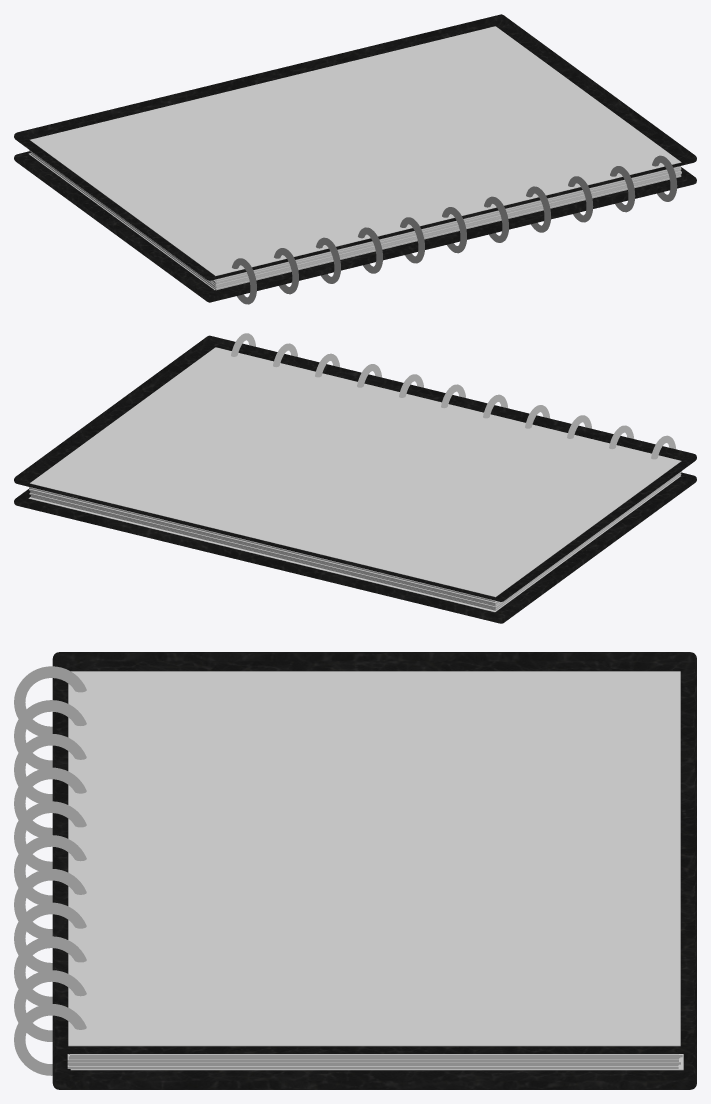
Rendered from notebook.glb.
3 views of the same model, one above another, from view 1: azimuth 30°, elevation 25°; view 2: azimuth 150°, elevation 25°; view 3: azimuth 270°, elevation 25° (orthographic). The views are drawn at different scales.
Parts seen in each view (by area): view 1: Cube.002_7, cover up_2, cover down_1, notrbook ring_6, Cube.015_20, Cube.011_16, Cube.007_12, Cube.009_14, Cube.013_18, Cube.012_17, Cube.010_15, Cube.014_19 (+1 smaller); view 2: Cube.002_7, cover up_2, cover down_1, notrbook ring_6, Cube.012_17, Cube.016_21, Cube.015_20, Cube.008_13, Cube.006_11, Cube.011_16, Cube.014_19, Cube.010_15 (+1 smaller); view 3: Cube.002_7, cover up_2, notrbook ring_6, cover down_1, Cube.008_13, Cube.012_17, Cube.011_16, Cube.015_20, Cube.016_21, Cube.009_14, Cube.013_18, Cube.010_15 (+1 smaller).
Part boxes in pixels (x1,y1,x2,y2): Cube.002_7: (30,26,681,276); cover up_2: (14,14,696,280); cover down_1: (14,151,696,302); notrbook ring_6: (232,155,677,304); Cube.015_20: (30,153,681,290); Cube.011_16: (209,171,681,285); Cube.007_12: (215,166,680,281); Cube.009_14: (212,168,681,283); Cube.013_18: (32,153,681,287); Cube.012_17: (29,150,681,287); Cube.010_15: (211,170,680,284); Cube.014_19: (31,153,680,288); Cube.002_7: (30,347,681,597); cover up_2: (14,335,696,601); cover down_1: (14,472,696,623); notrbook ring_6: (231,333,675,459); Cube.012_17: (29,471,681,608); Cube.016_21: (28,475,680,612); Cube.015_20: (30,473,681,610); Cube.008_13: (29,489,498,604); Cube.006_11: (29,487,496,601); Cube.011_16: (30,491,501,606); Cube.014_19: (31,474,679,609); Cube.010_15: (31,491,499,604); Cube.002_7: (68,671,680,1046); cover up_2: (52,652,696,1053); notrbook ring_6: (14,666,86,1075); cover down_1: (52,1048,696,1089); Cube.008_13: (70,1054,682,1057); Cube.012_17: (68,1057,680,1064); Cube.011_16: (67,1054,678,1061); Cube.015_20: (67,1065,678,1068); Cube.016_21: (70,1054,683,1070); Cube.009_14: (68,1055,680,1058); Cube.013_18: (67,1062,678,1065); Cube.010_15: (68,1058,678,1059).
Bounding box in the file's own units: 2.89 × 0.2438 × 2.12.
Materials: 3 (1 with a texture image).
